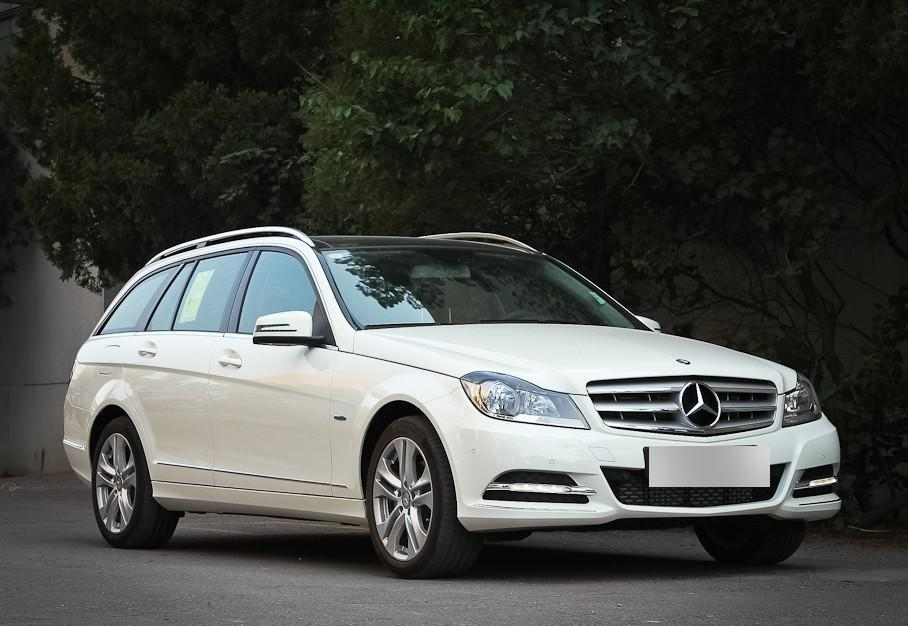Wagon: (60, 224, 846, 580)
